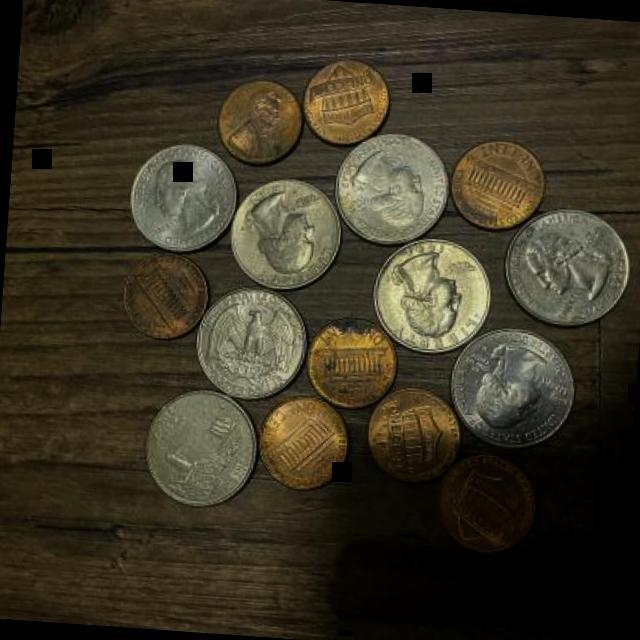Penny: (352, 382, 471, 484), (424, 451, 537, 558), (443, 134, 553, 236), (298, 311, 398, 411), (254, 391, 350, 494), (212, 68, 307, 172), (296, 55, 390, 151), (118, 246, 210, 342)
Quarter: (440, 321, 578, 451), (496, 203, 634, 332), (367, 233, 498, 354), (327, 126, 455, 248), (188, 280, 312, 404), (138, 384, 258, 512), (224, 172, 348, 292), (122, 137, 236, 257)
